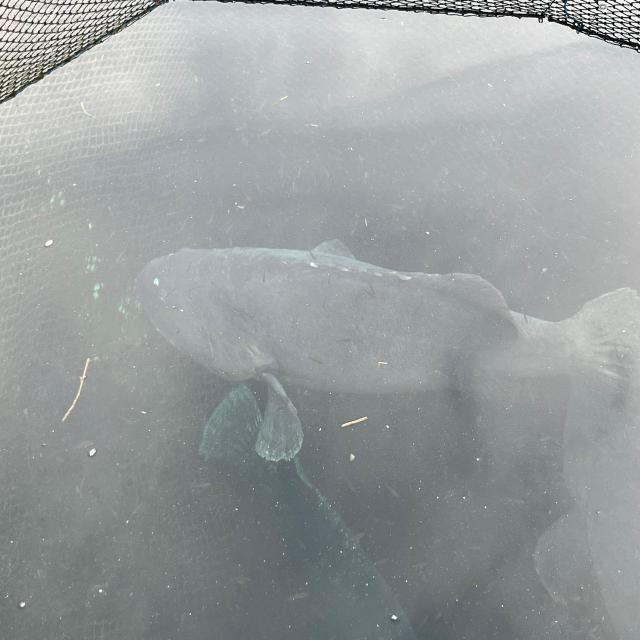ikan: (135, 236, 638, 414)
